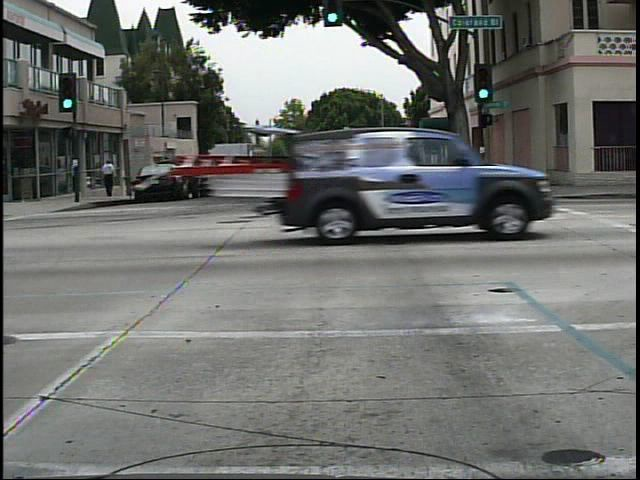person: (454, 141, 482, 196), (96, 153, 122, 202)
